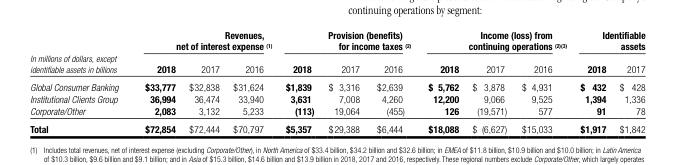table: (29, 28, 644, 134)
table column: (29, 28, 130, 134), (513, 28, 572, 134), (225, 28, 278, 134), (130, 28, 181, 134), (367, 28, 418, 134), (464, 28, 513, 134), (320, 28, 367, 134), (418, 28, 464, 134), (181, 28, 225, 134), (278, 28, 320, 134), (572, 28, 612, 134), (612, 28, 644, 134)
table column header: (29, 28, 644, 77)
table row: (29, 28, 644, 57), (29, 57, 644, 77), (29, 77, 644, 92), (29, 104, 644, 119), (29, 119, 644, 134), (29, 92, 644, 104)
table spanning cell: (29, 28, 130, 77), (418, 28, 572, 57), (130, 28, 278, 57), (278, 28, 418, 57), (572, 28, 644, 57)
